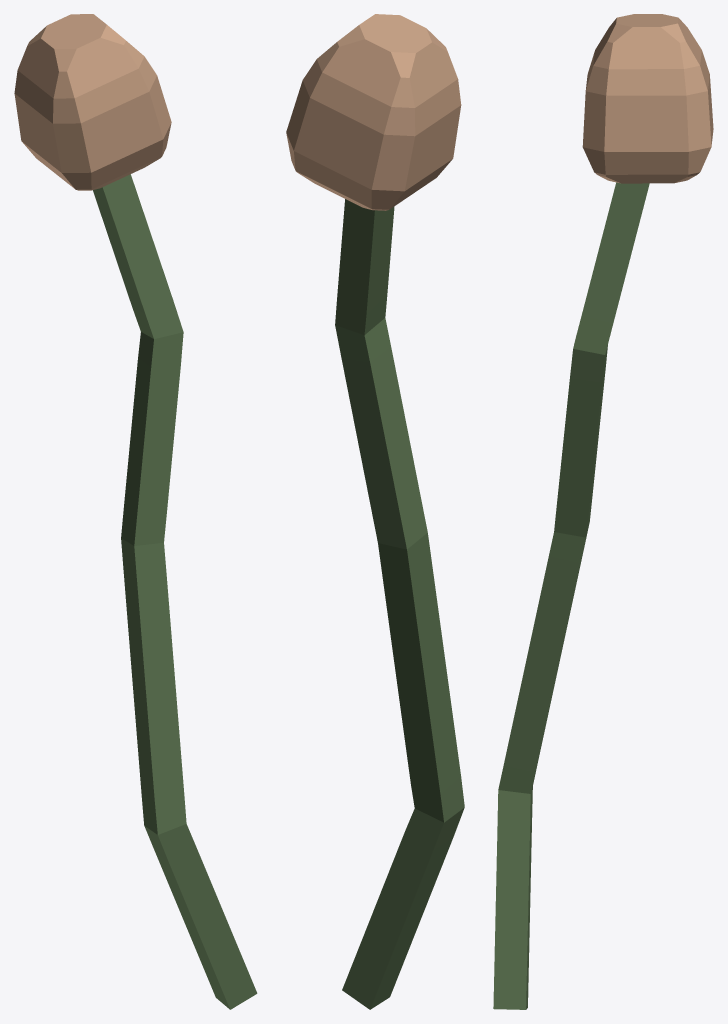
The model's file is flower1.fbx.
3 renders of one model, left to right at view 1: azimuth 30°, elevation 25°; view 2: azimuth 150°, elevation 25°; view 3: azimuth 270°, elevation 25°, orthographic. The views are drawn at different scales.
Visible parts, largest first — view 1: Cube, Cube.001; view 2: Cube, Cube.001; view 3: Cube, Cube.001.
Part boxes in pixels (box(x1,y1,x2,y2)): Cube: box(93, 174, 257, 1009); Cube.001: box(14, 14, 171, 190); Cube: box(335, 199, 464, 1009); Cube.001: box(286, 14, 461, 210); Cube: box(493, 182, 649, 1009); Cube.001: box(582, 14, 713, 183).
Bounding box in the file's own units: 0.8199 × 5 × 1.05.
